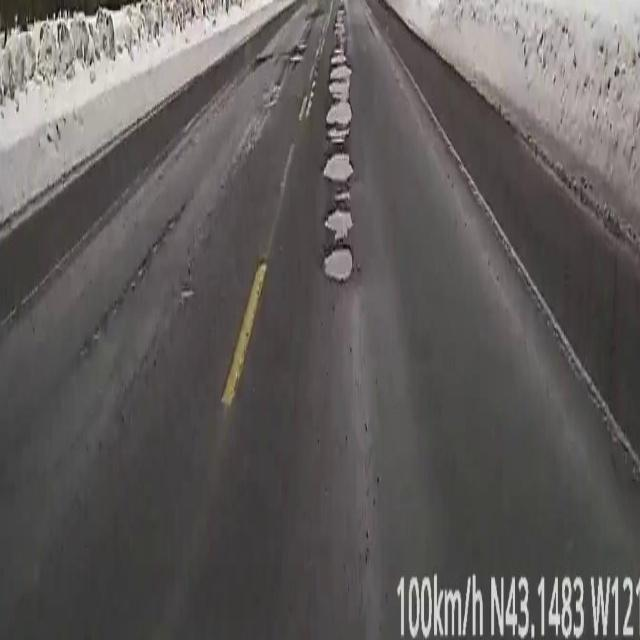pothole: (323, 0, 352, 280), (292, 40, 304, 64)
